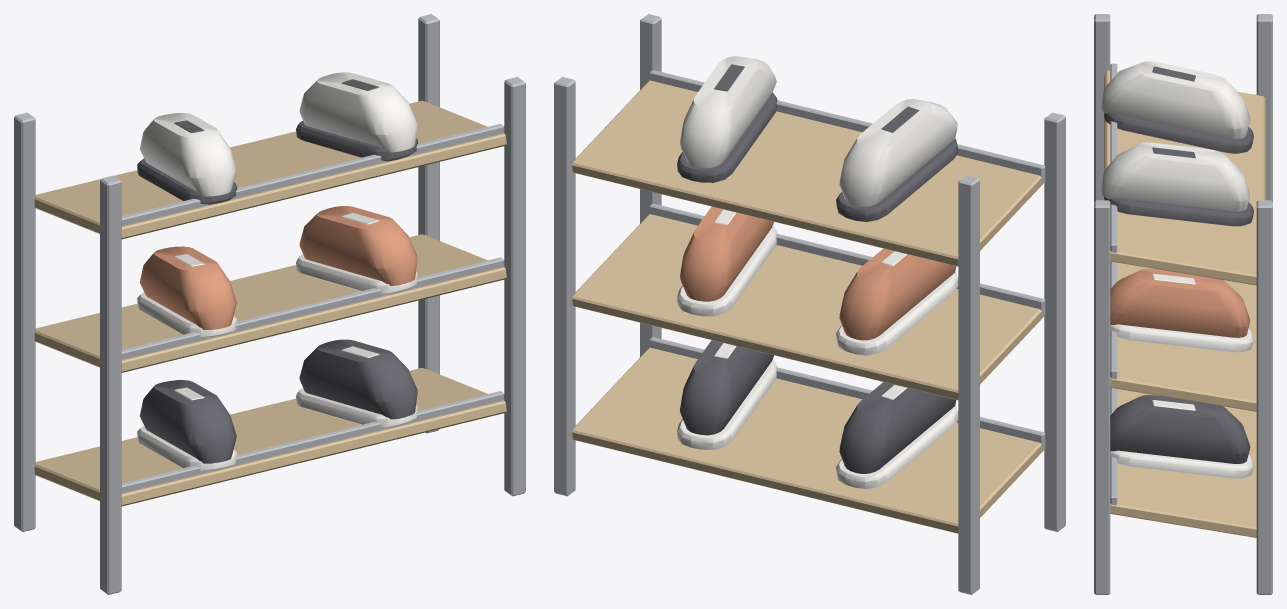
The model's file is clothing-rail-and-wardrobe-shoe-rack-with-shoes-9f718b49__35469.glb.
3 views of the same model, side by side, from view 1: azimuth 30°, elevation 25°; view 2: azimuth 150°, elevation 25°; view 3: azimuth 270°, elevation 25° (orthographic). The views are drawn at different scales.
Parts seen in each view (by area): view 1: shoe-rack-with-shoes; view 2: shoe-rack-with-shoes; view 3: shoe-rack-with-shoes.
Part boxes in pixels (<box>): shoe-rack-with-shoes: <box>14,14,525,594</box>; shoe-rack-with-shoes: <box>554,14,1065,594</box>; shoe-rack-with-shoes: <box>1094,14,1272,594</box>.
Size of the model in its own units: 0.788 by 0.7441 by 0.308.
